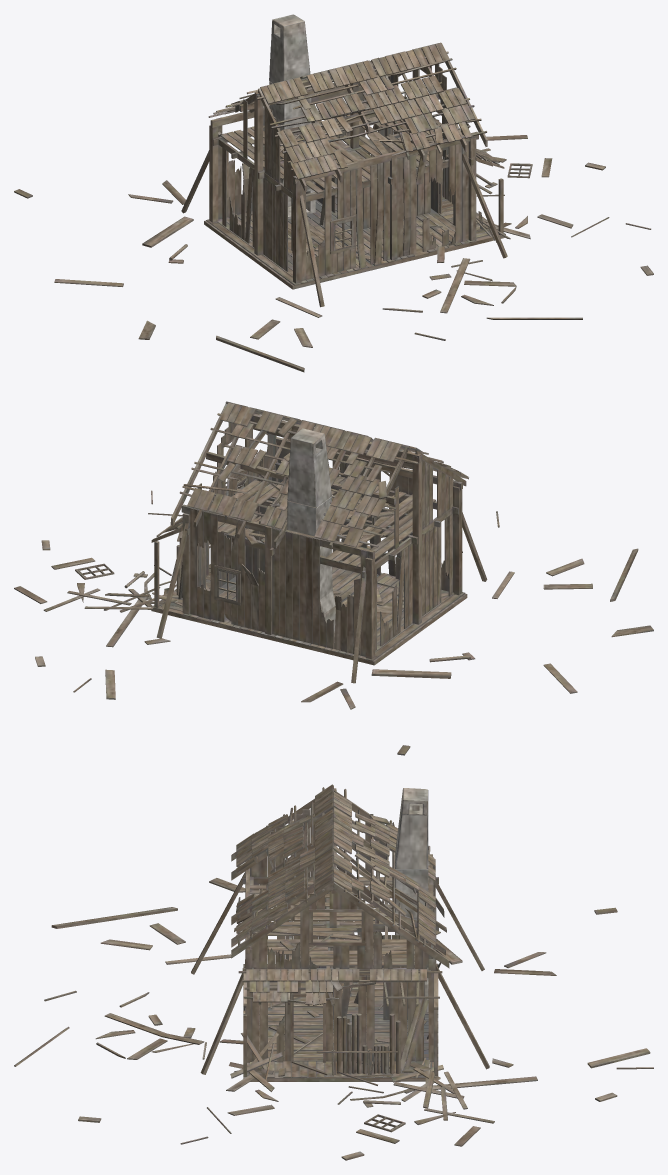
Rendered from ruined.glb.
The picture shows the model from 3 angles, top to bottom: view 1: azimuth 30°, elevation 25°; view 2: azimuth 150°, elevation 25°; view 3: azimuth 270°, elevation 25°; orthographic projection. The views are drawn at different scales.
Visible parts, largest first — view 1: Cube.597, Cube.511, Cube.425, Cube.001, Cube.032, Cube.055, Cube.058, Cube.059, Cube.057, Cube.460, Cube.452, Cube.457 (+11 smaller); view 2: Cube.597, Cube.001, Cube.511, Cube.425, Cube.058, Cube.055, Cube.052, Cube.468, Cube.483, Cube.054, Cube.493, Cube.491 (+15 smaller); view 3: Cube.597, Cube.511, Cube.042, Cube.001, Cube.030, Cube.659, Cube.610, Cube.502, Cube.366, Cube.054, Cube.607, Cube.622 (+1 smaller).
Boxes of the visible parts, left/top/right/bottom form: Cube.597: left=269, top=14, right=310, bottom=83; Cube.511: left=204, top=209, right=505, bottom=289; Cube.425: left=254, top=94, right=263, bottom=255; Cube.001: left=269, top=81, right=315, bottom=218; Cube.032: left=293, top=131, right=478, bottom=183; Cube.055: left=209, top=125, right=218, bottom=222; Cube.058: left=293, top=180, right=301, bottom=283; Cube.059: left=390, top=157, right=397, bottom=260; Cube.057: left=468, top=137, right=476, bottom=240; Cube.460: left=403, top=156, right=410, bottom=255; Cube.452: left=355, top=168, right=366, bottom=268; Cube.457: left=374, top=162, right=383, bottom=264; Cube.597: left=287, top=428, right=331, bottom=507; Cube.001: left=287, top=496, right=335, bottom=632; Cube.511: left=151, top=566, right=467, bottom=665; Cube.425: left=412, top=455, right=421, bottom=624; Cube.058: left=453, top=486, right=462, bottom=595; Cube.055: left=365, top=557, right=374, bottom=659; Cube.052: left=181, top=504, right=374, bottom=558; Cube.468: left=265, top=525, right=272, bottom=634; Cube.483: left=272, top=528, right=279, bottom=635; Cube.054: left=182, top=513, right=190, bottom=614; Cube.493: left=190, top=508, right=197, bottom=615; Cube.491: left=210, top=513, right=217, bottom=620; Cube.597: left=395, top=788, right=428, bottom=868; Cube.511: left=243, top=963, right=438, bottom=1081; Cube.042: left=333, top=882, right=449, bottom=968; Cube.001: left=395, top=869, right=428, bottom=1012; Cube.030: left=231, top=881, right=333, bottom=958; Cube.659: left=51, top=907, right=177, bottom=928; Cube.610: left=200, top=966, right=245, bottom=1074; Cube.502: left=366, top=976, right=374, bottom=1061; Cube.366: left=300, top=899, right=309, bottom=968; Cube.054: left=428, top=958, right=435, bottom=1062; Cube.607: left=435, top=963, right=489, bottom=1069; Cube.622: left=104, top=1013, right=204, bottom=1044.
Size of the model in its own units: 17.61 by 6.24 by 16.71.
Materials: 1 (1 with a texture image).
